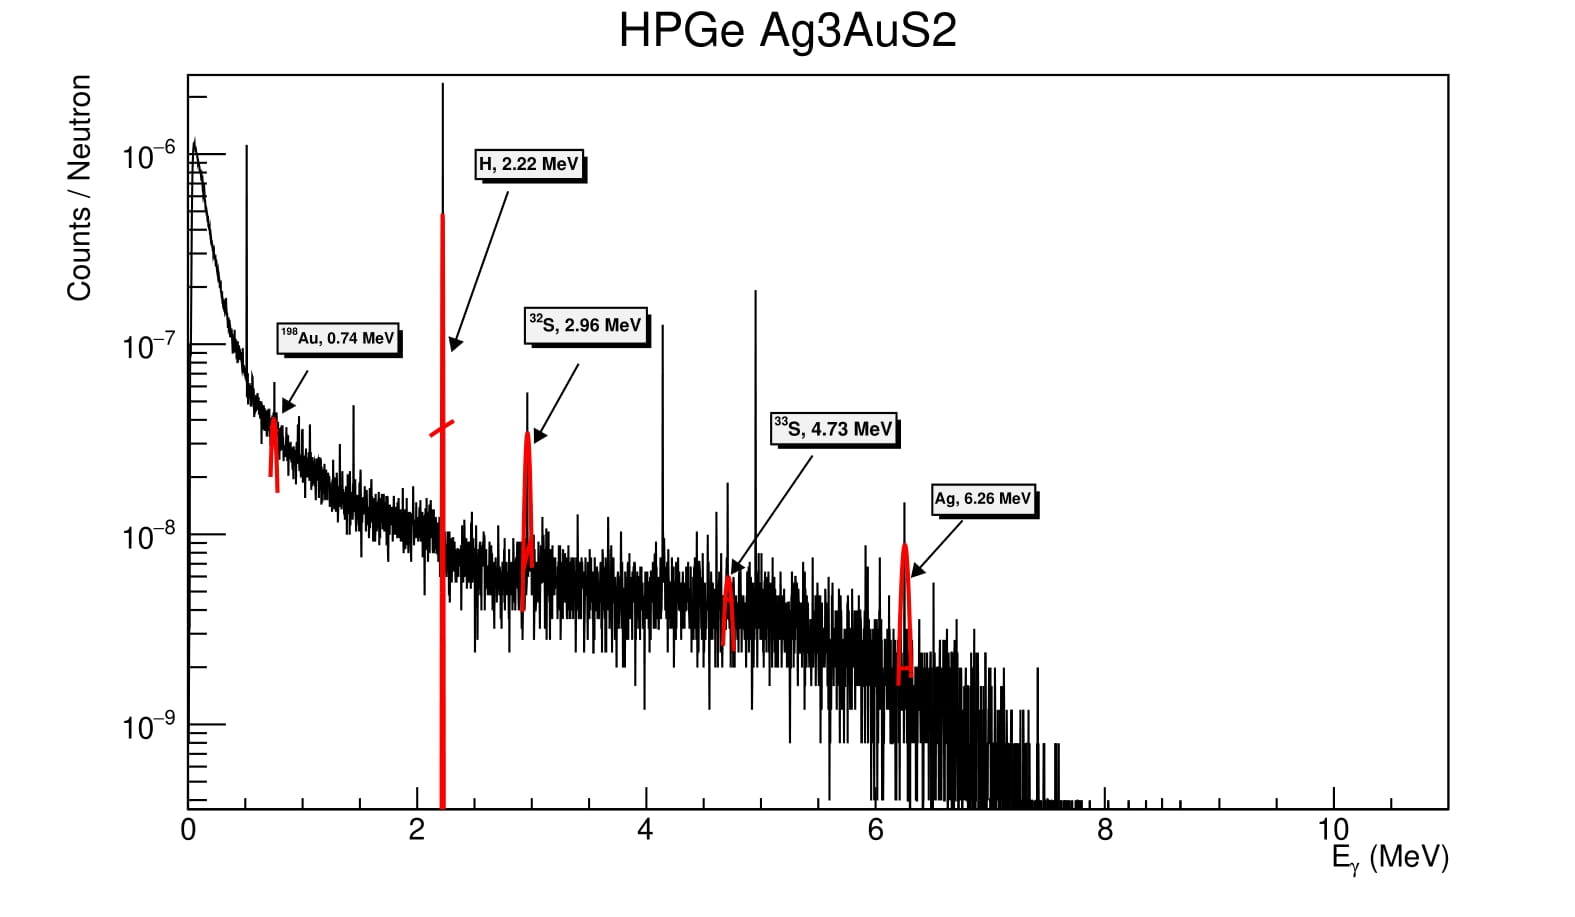gauss: (432, 157, 470, 806), (648, 350, 687, 636), (506, 395, 546, 602), (232, 123, 256, 410)
other: (935, 650, 1436, 818), (744, 568, 888, 692), (296, 443, 428, 562)
